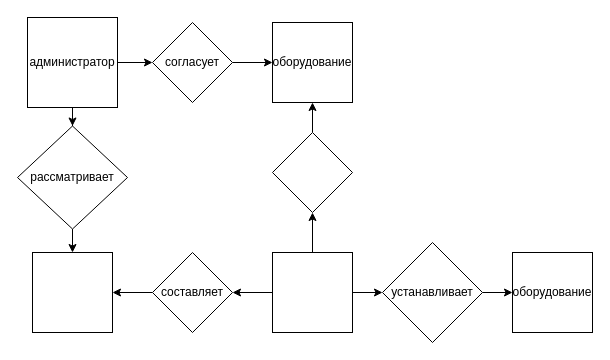
This 610x360 diagram has some shape labels left out. Here are the shapes that lost their labels. From the top down, the centre of each, then its label:
At (x=312, y=172): "получает".
At (x=72, y=292): "список оборудования".
At (x=312, y=292): "мастер".
